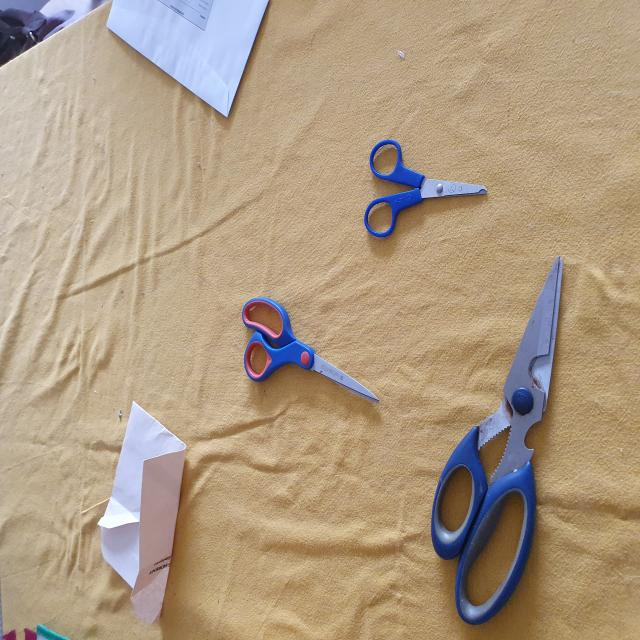scissors: (428, 257, 568, 625), (242, 295, 380, 405), (364, 140, 492, 242)
